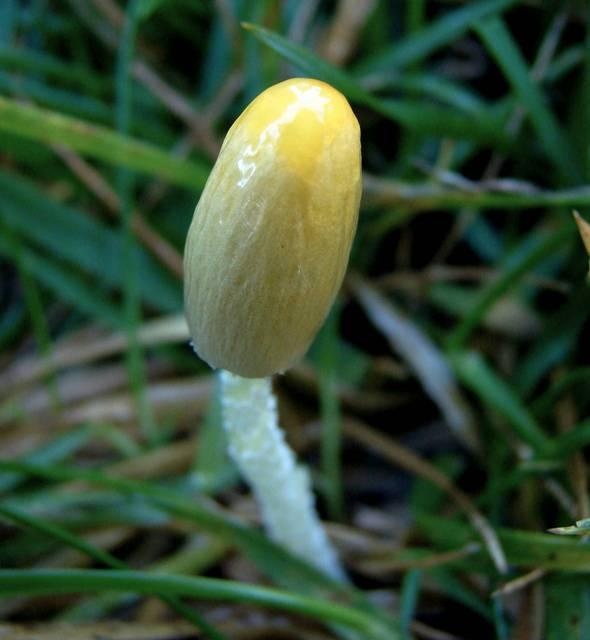edible_mushroom: (180, 75, 364, 585)
